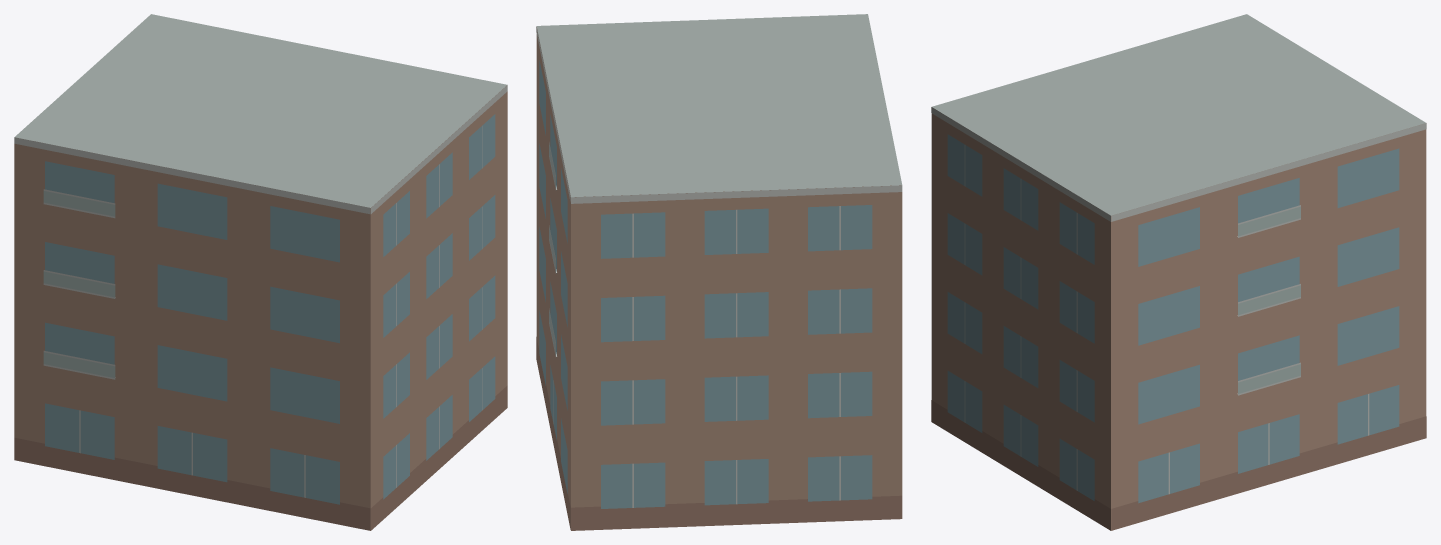
Rendered from residential-54da40a3-1e3a-4d1e-8809-3002d2567953.glb.
3 renders of one model, left to right at view 1: azimuth 30°, elevation 25°; view 2: azimuth 150°, elevation 25°; view 3: azimuth 270°, elevation 25°, orthographic. The views are drawn at different scales.
Parts seen in each view (by area): view 1: residential-54da40a3-1e3a-4d1e-8809-3002d2567953.tmp; view 2: residential-54da40a3-1e3a-4d1e-8809-3002d2567953.tmp; view 3: residential-54da40a3-1e3a-4d1e-8809-3002d2567953.tmp.
Boxes of the visible parts, <box> form: residential-54da40a3-1e3a-4d1e-8809-3002d2567953.tmp: <box>14,14,507,530</box>; residential-54da40a3-1e3a-4d1e-8809-3002d2567953.tmp: <box>536,14,902,530</box>; residential-54da40a3-1e3a-4d1e-8809-3002d2567953.tmp: <box>931,14,1426,530</box>.
Size of the model in its own units: 16.76 by 12.2 by 17.38.
